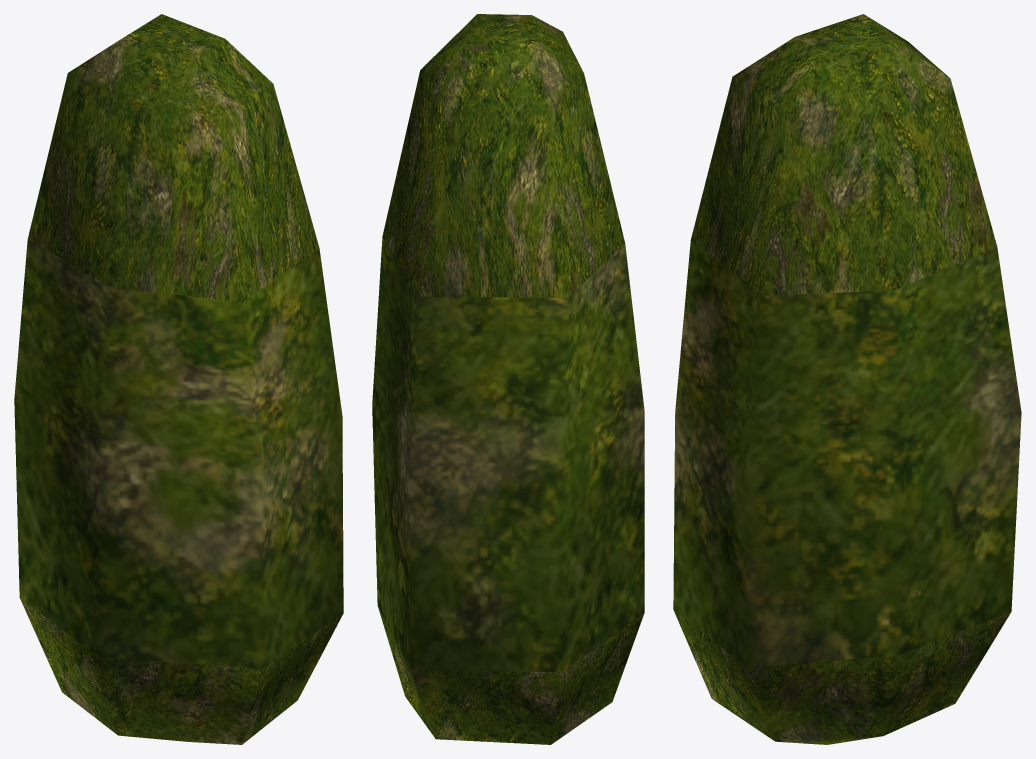
Rendered from OVERHILL_A_01_ROCK_BRIDGE05.fbx.
The picture shows the model from 3 angles, left to right: view 1: azimuth 30°, elevation 25°; view 2: azimuth 150°, elevation 25°; view 3: azimuth 270°, elevation 25°; orthographic projection.
Visible parts, largest first — view 1: OVERHILL_A_01_ROCK_BRIDGE05; view 2: OVERHILL_A_01_ROCK_BRIDGE05; view 3: OVERHILL_A_01_ROCK_BRIDGE05.
Part boxes in pixels (left/top/right/bottom): OVERHILL_A_01_ROCK_BRIDGE05: left=14, top=14, right=343, bottom=744; OVERHILL_A_01_ROCK_BRIDGE05: left=372, top=14, right=644, bottom=744; OVERHILL_A_01_ROCK_BRIDGE05: left=673, top=14, right=1021, bottom=744.
Bounding box in the file's own units: 17473 × 49641 × 22896.
1 material, 1 textured.
